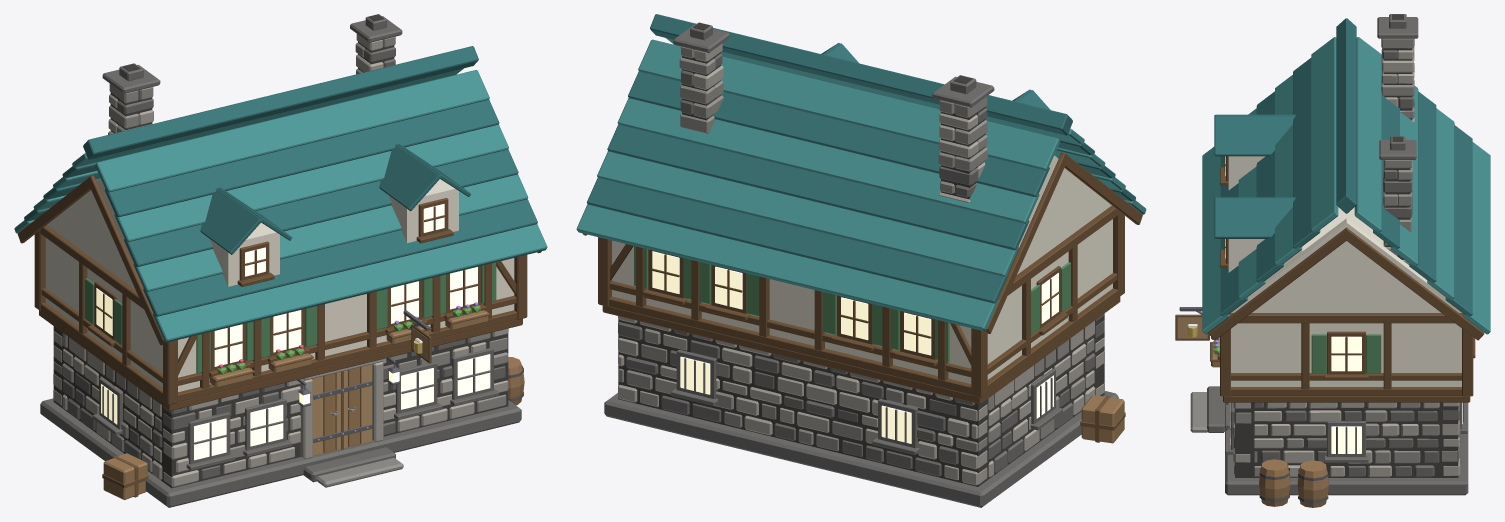
The model's file is house_e.glb.
3 views of the same model, side by side, from view 1: azimuth 30°, elevation 25°; view 2: azimuth 150°, elevation 25°; view 3: azimuth 270°, elevation 25° (orthographic). The views are drawn at different scales.
Parts seen in each view (by area): view 1: HouseE; view 2: HouseE; view 3: HouseE.
Boxes of the visible parts, left/top/right/bottom form: HouseE: left=14, top=14, right=547, bottom=507; HouseE: left=576, top=14, right=1146, bottom=507; HouseE: left=1175, top=14, right=1490, bottom=507.
Size of the model in its own units: 8.78 by 7.35 by 6.15.
